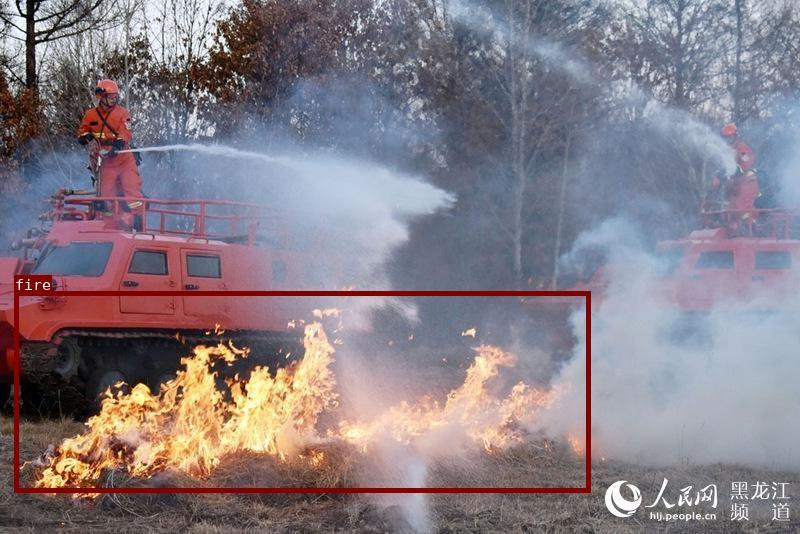fire: (14, 291, 590, 491)
